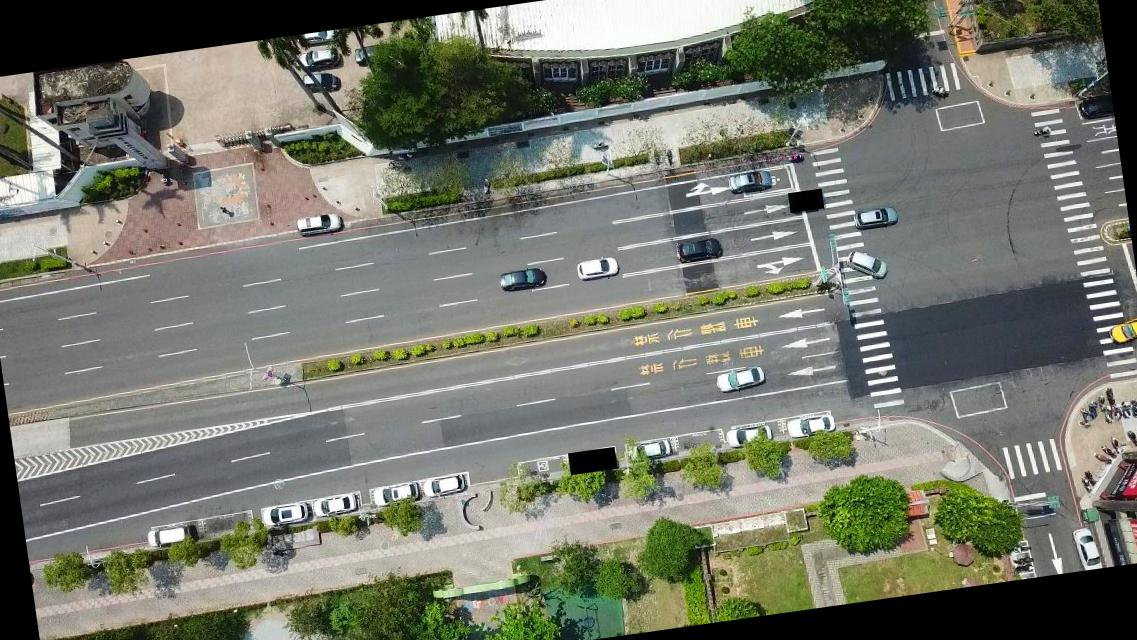vehicle: (844, 247, 890, 286), (714, 364, 766, 394), (261, 502, 309, 530), (785, 412, 835, 438), (574, 254, 620, 282), (312, 492, 358, 520), (145, 522, 193, 548), (1074, 526, 1102, 570), (726, 423, 773, 449), (853, 205, 898, 232), (624, 438, 672, 463), (372, 482, 418, 508), (499, 267, 546, 292), (676, 237, 721, 263), (421, 473, 467, 498), (728, 168, 772, 194), (296, 213, 343, 237), (297, 47, 339, 71), (300, 70, 341, 94), (297, 30, 342, 49), (354, 46, 382, 68)
